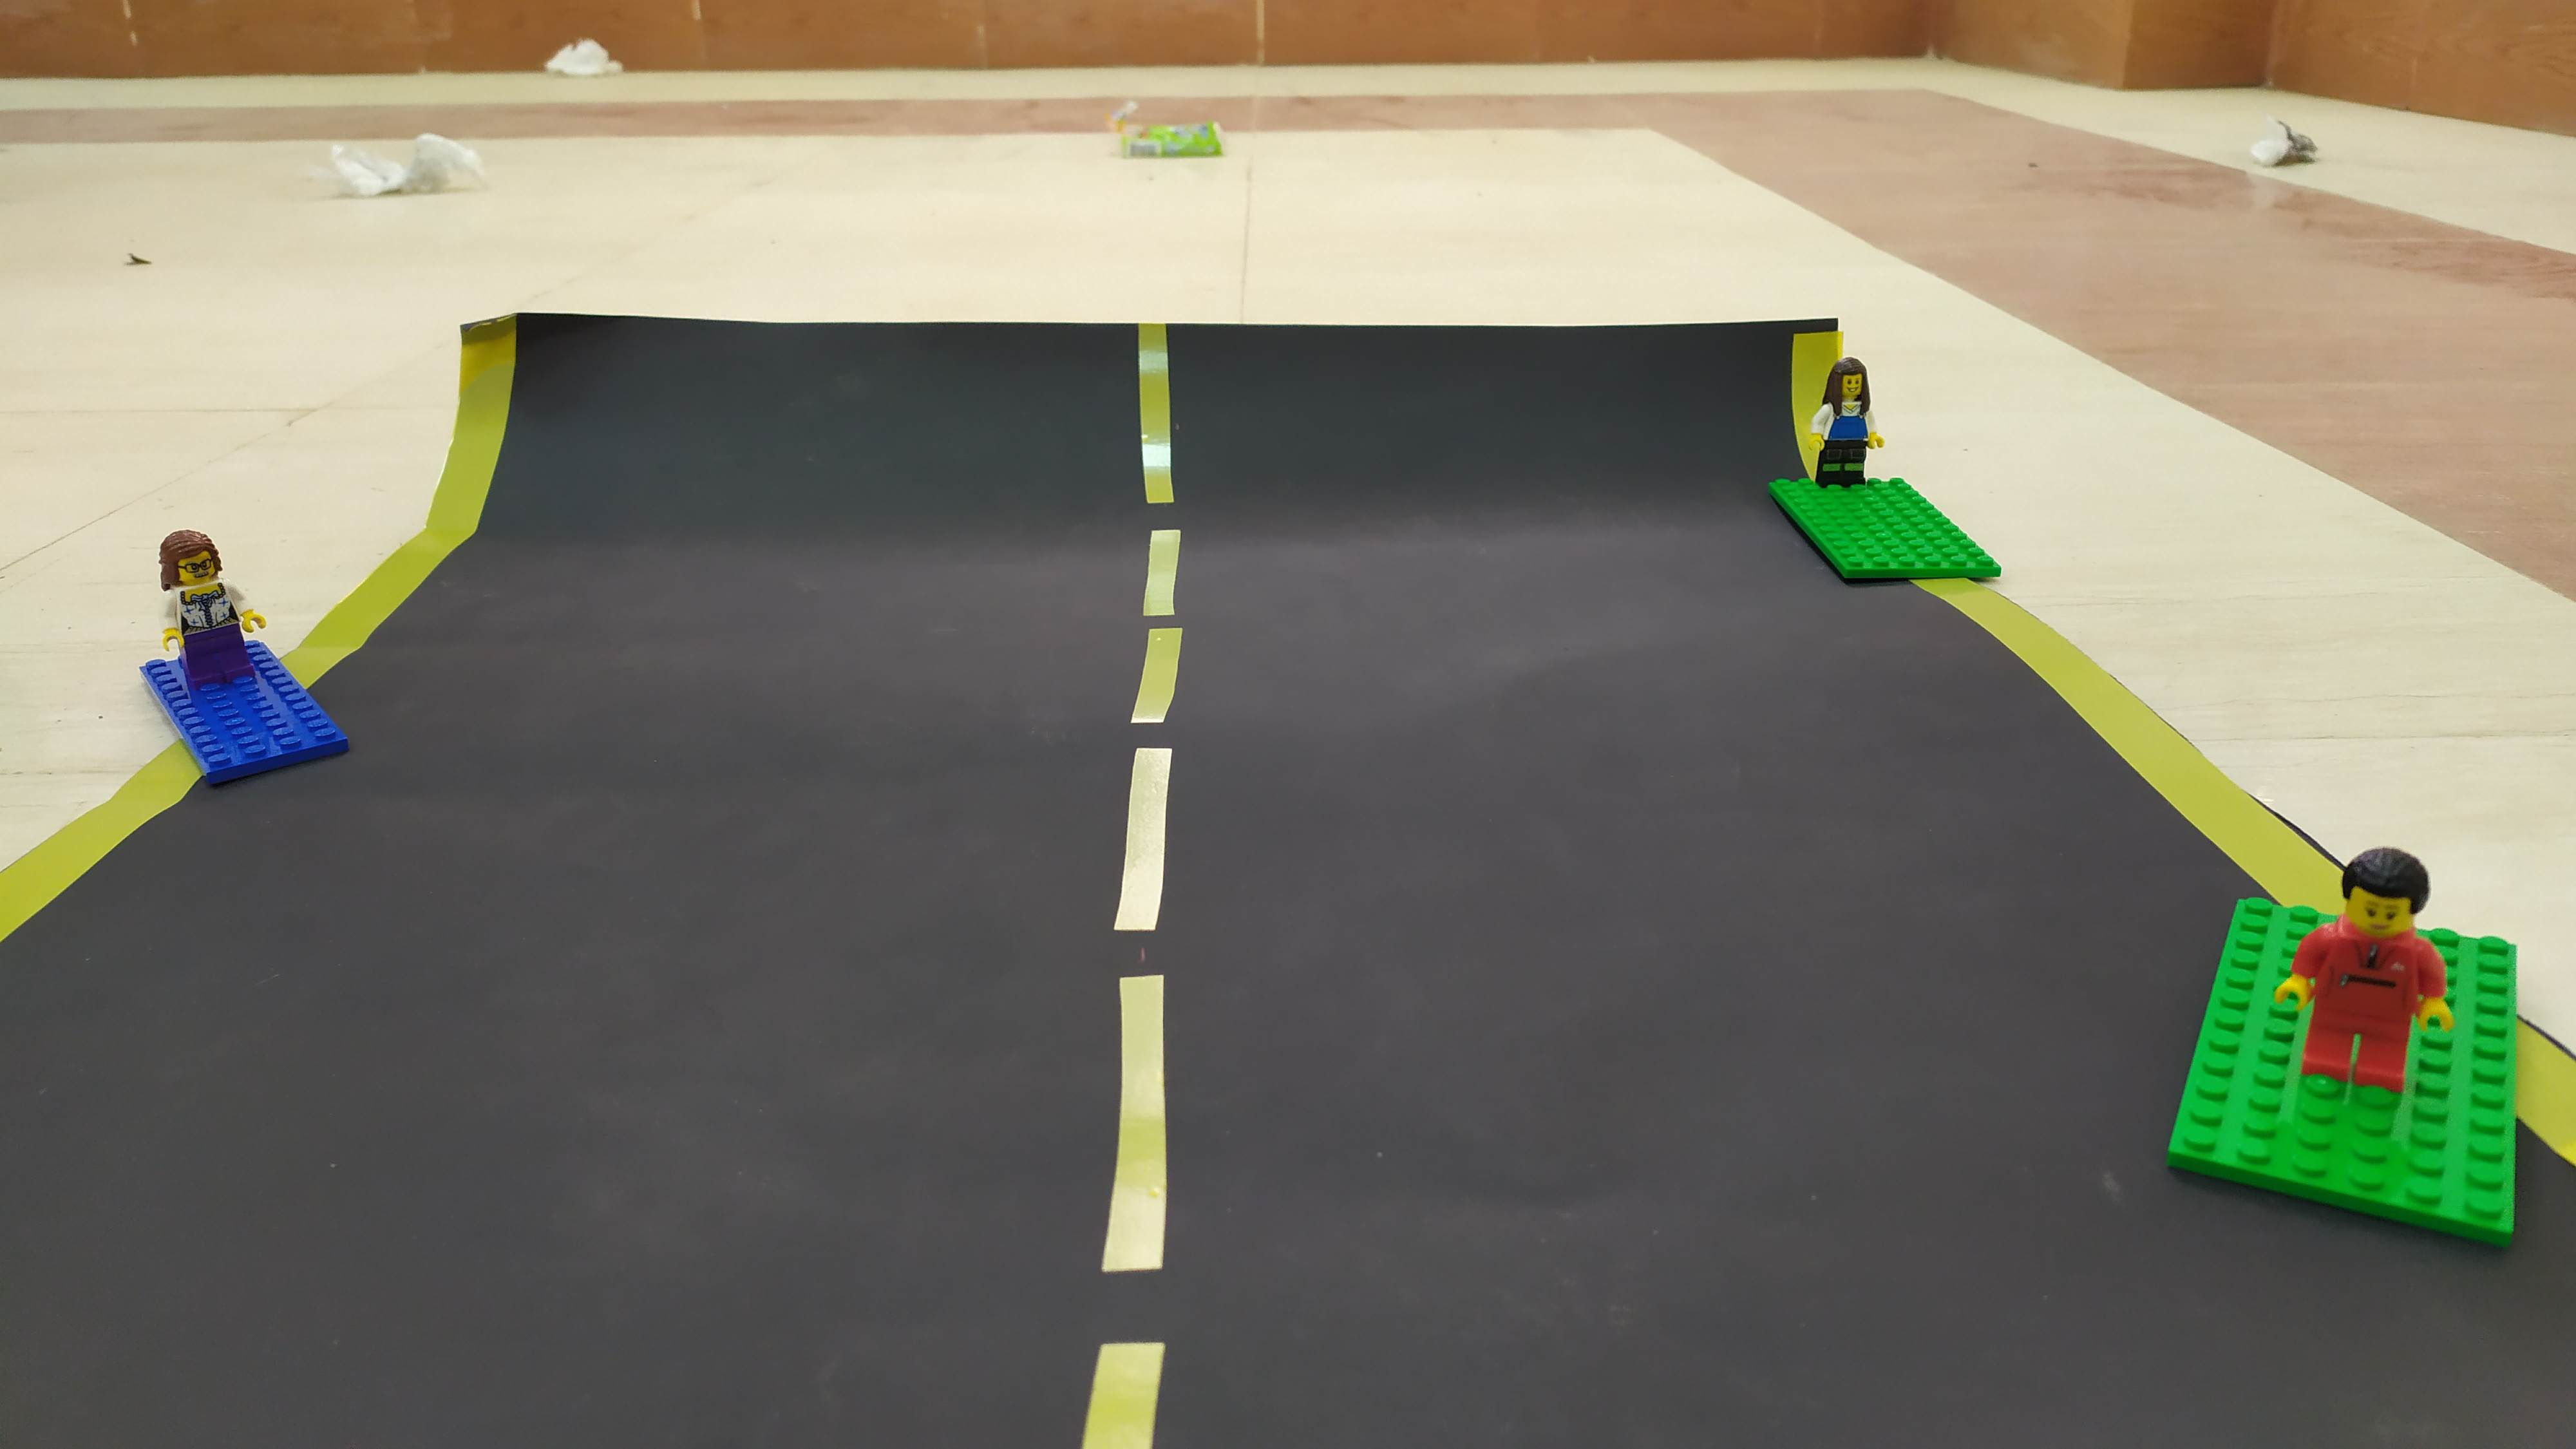Person: (2270, 847, 2470, 1092), (151, 518, 267, 692), (1794, 357, 1884, 499)
